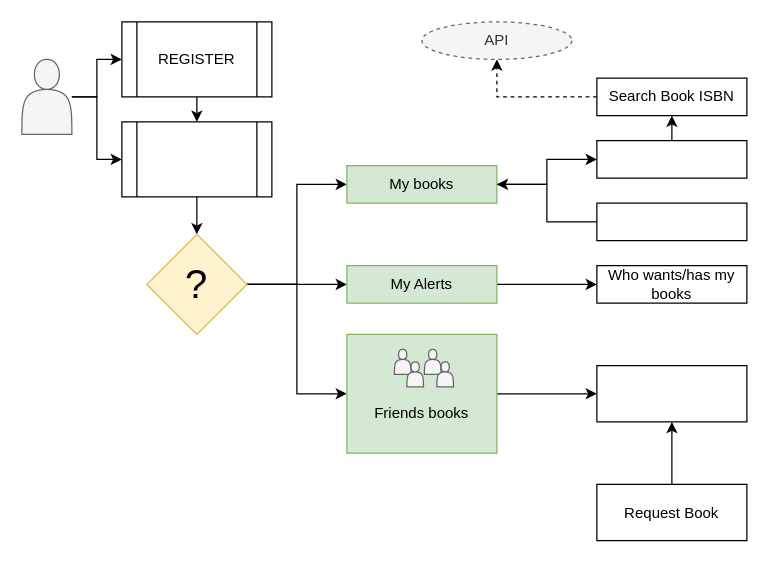
Image size: 769x563. Some labels were removed from this diagram. Each missing label, with the centre of its shape:
Add Books: the point at 671,158
Delete Books: the point at 671,221
LOGIN: the point at 196,159
Search in Friends Library: the point at 671,393
